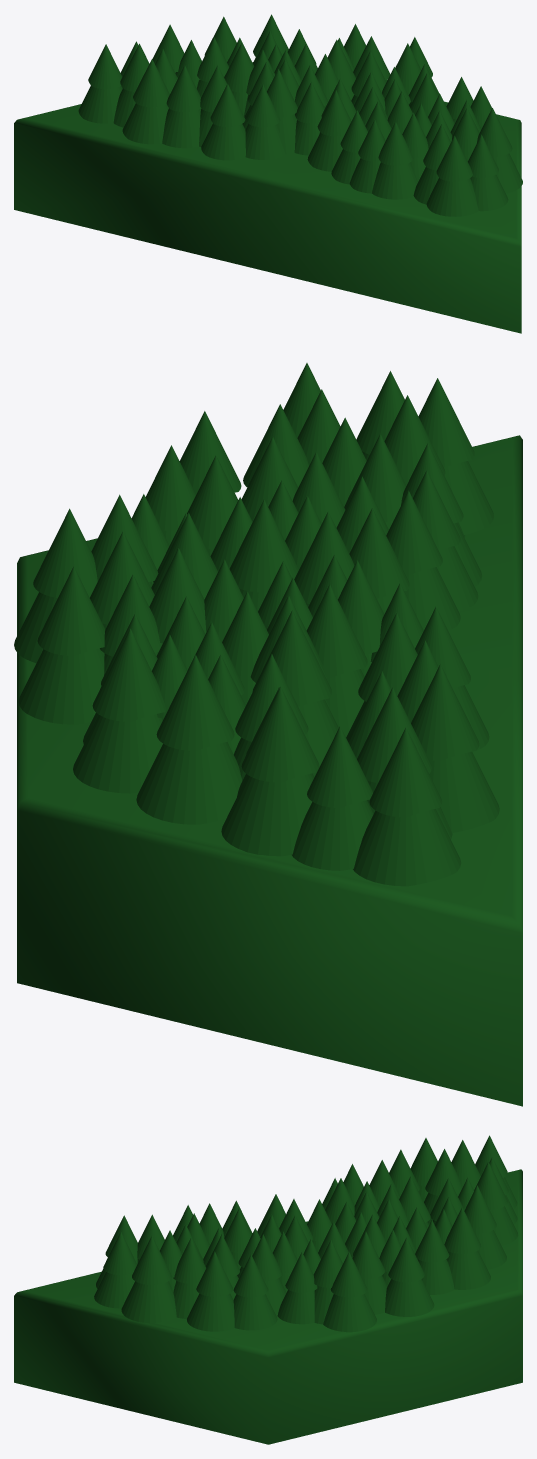
Rendered from boreal_half.glb.
3 views of the same model, one above another, from view 1: azimuth 30°, elevation 25°; view 2: azimuth 150°, elevation 25°; view 3: azimuth 270°, elevation 25° (orthographic). The views are drawn at different scales.
Visible parts, largest first — view 1: Dark_Grass_Half; view 2: Dark_Grass_Half; view 3: Dark_Grass_Half.
Part boxes in pixels (<box>): Dark_Grass_Half: <box>14,14,522,333</box>; Dark_Grass_Half: <box>14,363,522,1106</box>; Dark_Grass_Half: <box>14,1135,522,1444</box>.
Size of the model in its own units: 0.87 by 0.363 by 1.
